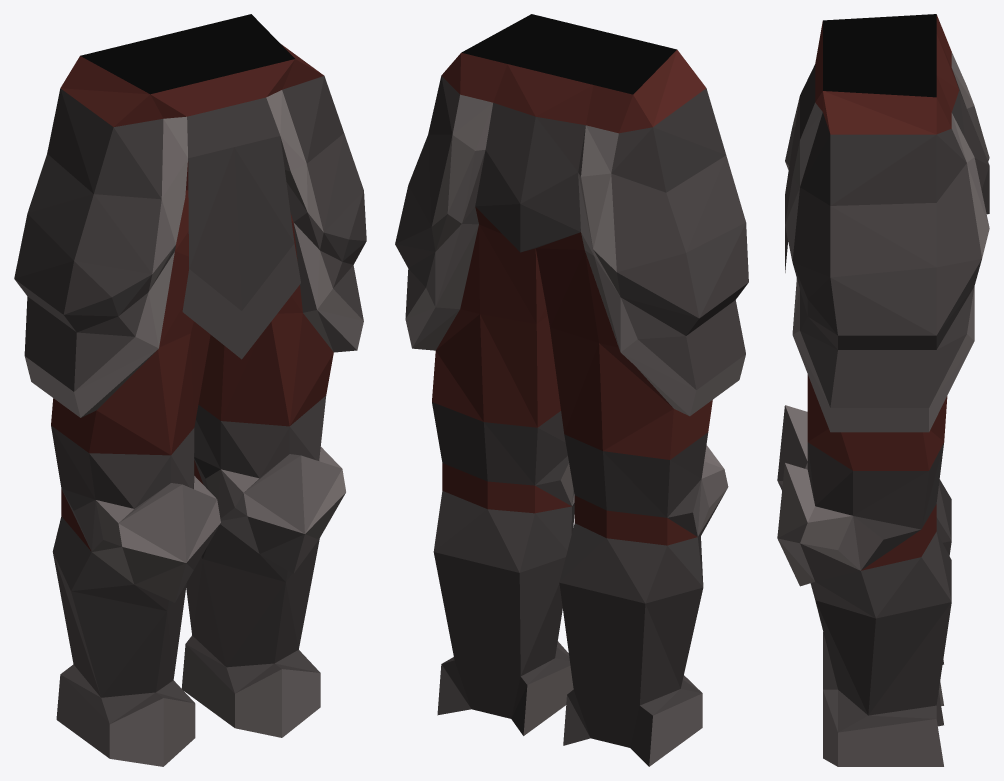
Rendered from player_sanguine_torva_platelegs.glb.
3 views of the same model, side by side, from view 1: azimuth 30°, elevation 25°; view 2: azimuth 150°, elevation 25°; view 3: azimuth 270°, elevation 25° (orthographic).
Size of the model in its own units: 46 by 98 by 28.
Materials: 1 (1 with a texture image).
